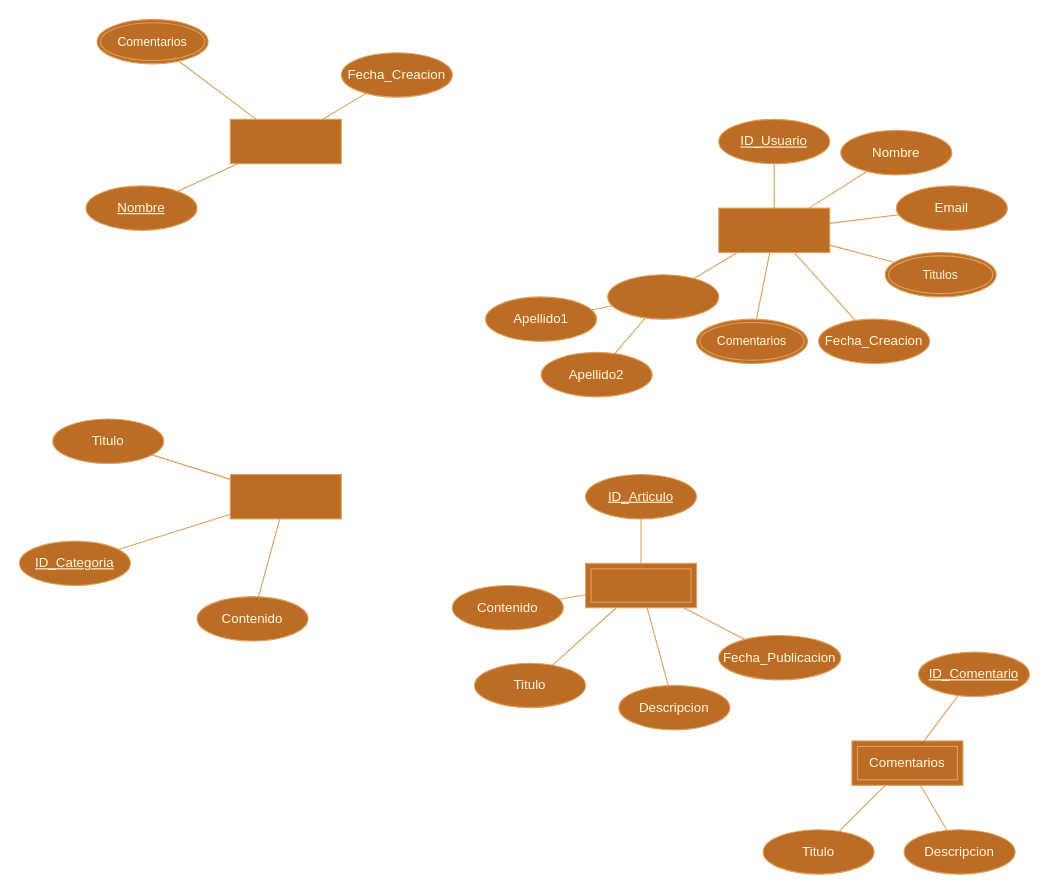
This 1049x894 diagram has some shape labels left out. Each missing label, with the centre of its shape:
Apellidos: the point at 663,296
Articulo: the point at 640,585
Blog: the point at 285,141
Categoria: the point at 285,496
Usuarios: the point at 774,230
